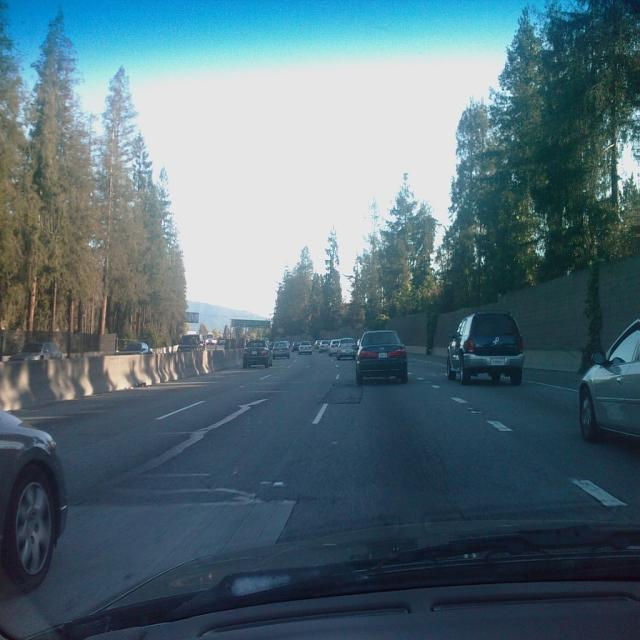car: (444, 307, 526, 385), (353, 327, 408, 385)
